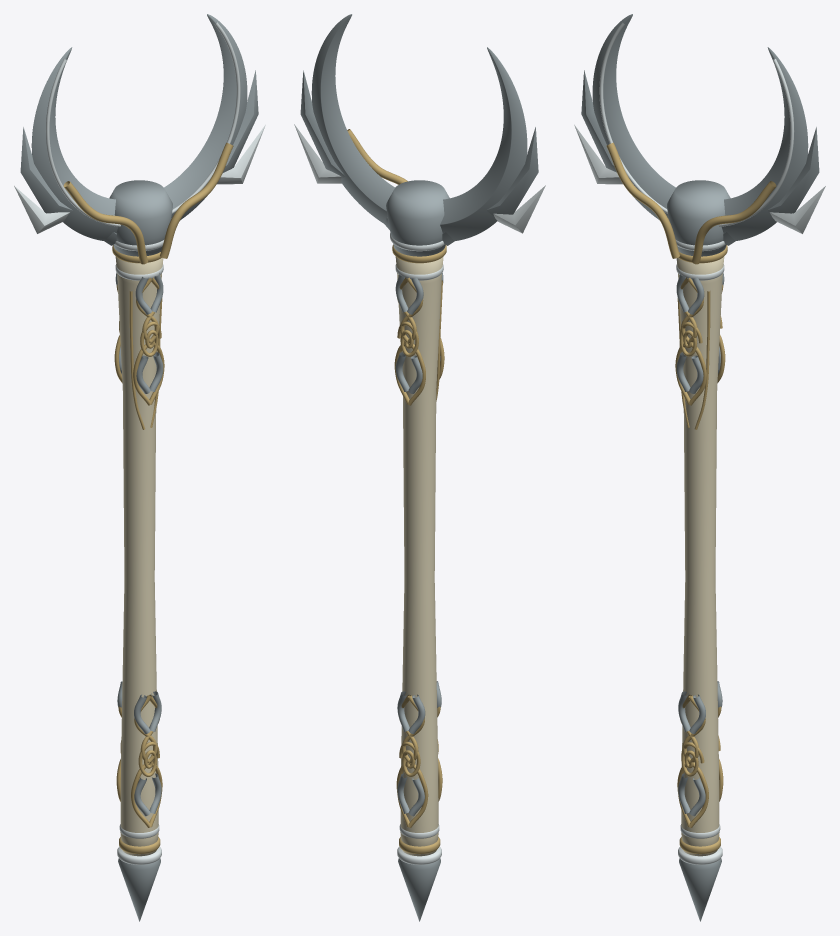
File: sceptre_lunaire_metallique.glb
3 renders of one model, left to right at view 1: azimuth 30°, elevation 25°; view 2: azimuth 150°, elevation 25°; view 3: azimuth 330°, elevation 25°, orthographic.
Parts seen in each view (by area): view 1: Manche ivoire allongé, Grand croissant lunaire, Col du croissant, Nervure du croissant, Griffe extérieure, Pointe inférieure, Volute de monture.001, Volute de monture, Griffe extérieure.001, Éperon latéral, Éperon latéral.001, Arabesque en or.004 (+1 smaller); view 2: Manche ivoire allongé, Grand croissant lunaire, Col du croissant, Griffe extérieure, Pointe inférieure, Griffe extérieure.001, Éperon latéral, Éperon latéral.001, Arabesque en or.006, Volute de monture.001, Arabesque en or.002; view 3: Manche ivoire allongé, Grand croissant lunaire, Col du croissant, Nervure du croissant, Griffe extérieure.001, Pointe inférieure, Volute de monture, Volute de monture.001, Griffe extérieure, Éperon latéral.001, Éperon latéral, Arabesque en or.005 (+1 smaller).
Boxes of the visible parts, <box> form: Manche ivoire allongé: <box>115,256,163,856</box>; Grand croissant lunaire: <box>31,14,247,241</box>; Col du croissant: <box>109,180,172,256</box>; Nervure du croissant: <box>45,22,240,226</box>; Griffe extérieure: <box>20,127,116,245</box>; Pointe inférieure: <box>118,858,160,921</box>; Volute de monture.001: <box>160,142,233,258</box>; Volute de monture: <box>63,181,148,264</box>; Griffe extérieure.001: <box>171,70,258,218</box>; Éperon latéral: <box>14,186,69,233</box>; Éperon latéral.001: <box>217,124,265,184</box>; Arabesque en or.004: <box>131,695,157,827</box>; Manche ivoire allongé: <box>395,256,443,856</box>; Grand croissant lunaire: <box>311,14,527,240</box>; Col du croissant: <box>386,180,449,256</box>; Griffe extérieure: <box>442,127,538,245</box>; Pointe inférieure: <box>398,858,440,921</box>; Griffe extérieure.001: <box>300,70,389,229</box>; Éperon latéral: <box>493,185,545,233</box>; Éperon latéral.001: <box>294,124,341,183</box>; Arabesque en or.006: <box>401,695,428,827</box>; Volute de monture.001: <box>347,129,407,184</box>; Arabesque en or.002: <box>400,277,425,405</box>; Manche ivoire allongé: <box>676,256,724,856</box>; Grand croissant lunaire: <box>592,14,808,241</box>; Col du croissant: <box>667,180,730,256</box>; Nervure du croissant: <box>599,22,794,226</box>; Griffe extérieure.001: <box>723,127,819,245</box>; Pointe inférieure: <box>679,858,721,921</box>; Volute de monture: <box>606,142,679,258</box>; Volute de monture.001: <box>691,181,776,264</box>; Griffe extérieure: <box>581,70,668,218</box>; Éperon latéral.001: <box>769,186,825,233</box>; Éperon latéral: <box>574,124,622,184</box>; Arabesque en or.005: <box>682,695,708,827</box>.
Bounding box in the file's own units: 1.82 × 6.16 × 0.4364.
